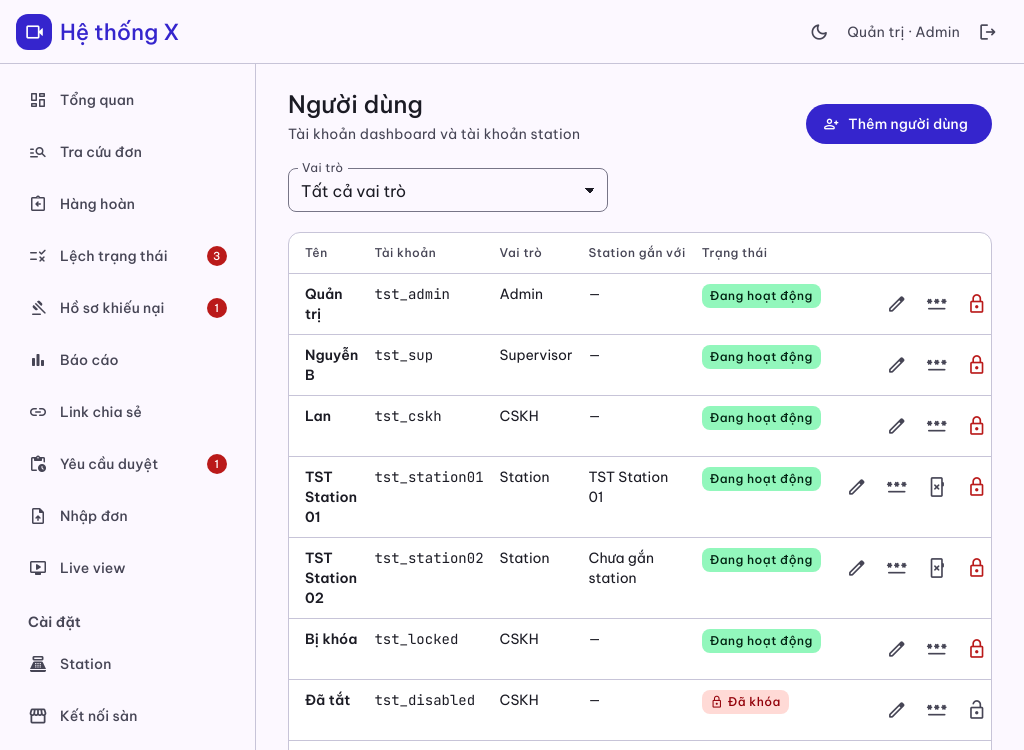
D9: kiểm client — tên đăng nhập sai mẫu, mật khẩu < 8
The image size is (1024, 750).
Click the button "Thêm người dùng" at (899, 124), box [806,104,992,144]
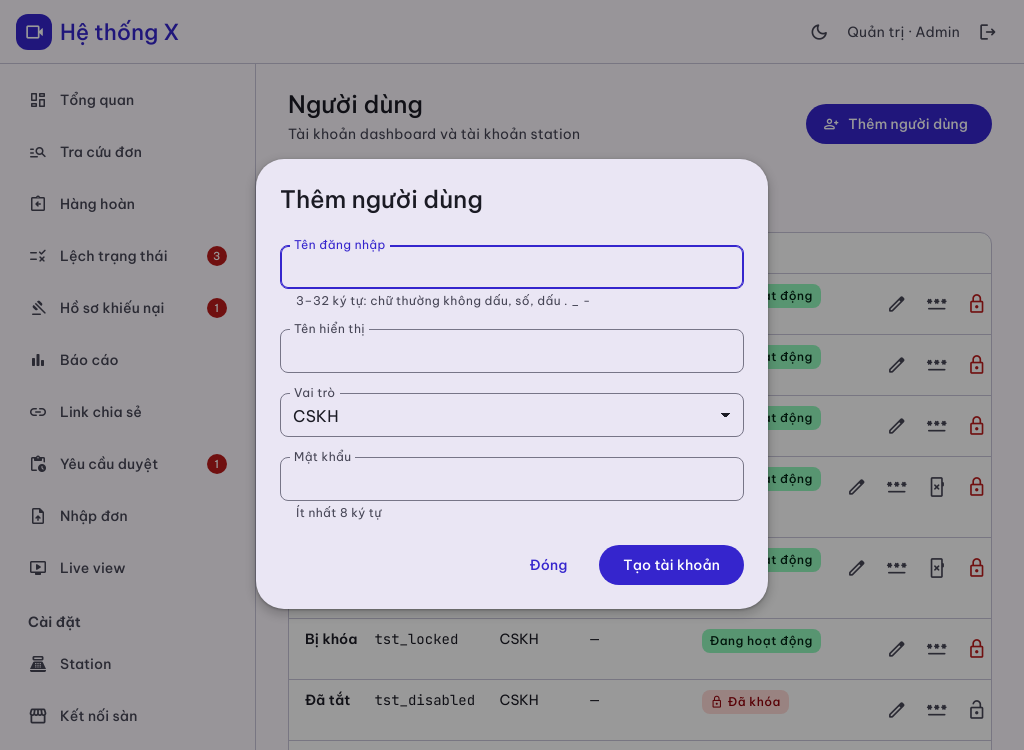
Type "AB" into the field labelled "Tên đăng nhập" at (512, 267), box [280,245,744,289]
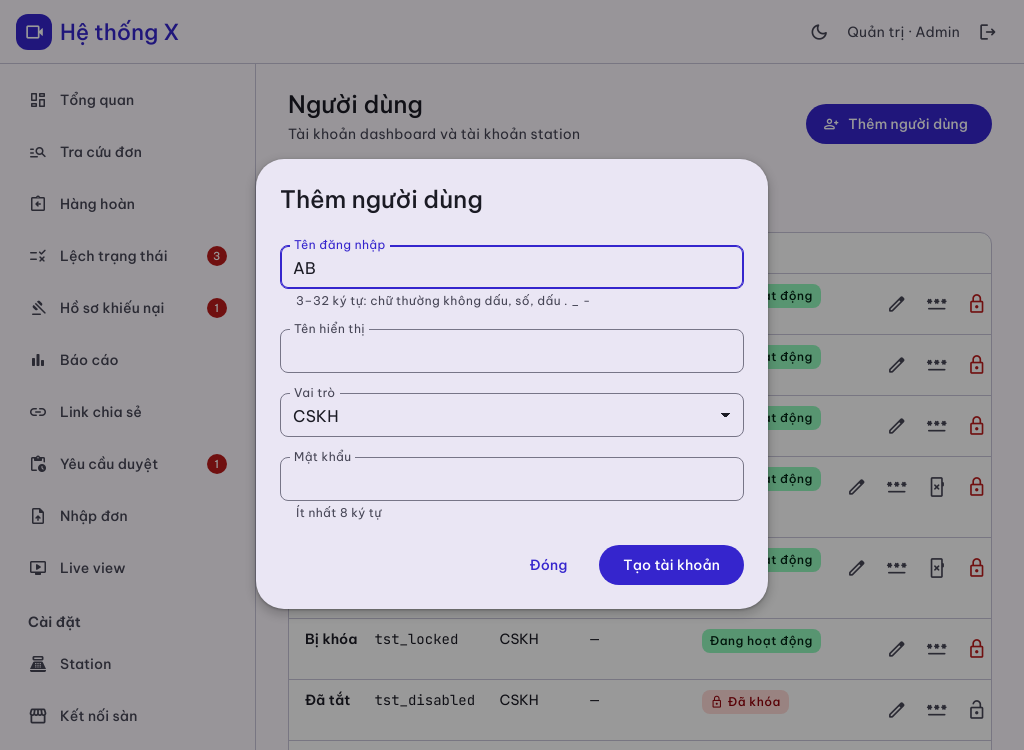
Type "x" into the field labelled "Tên hiển thị" at (512, 351), box [280,329,744,373]
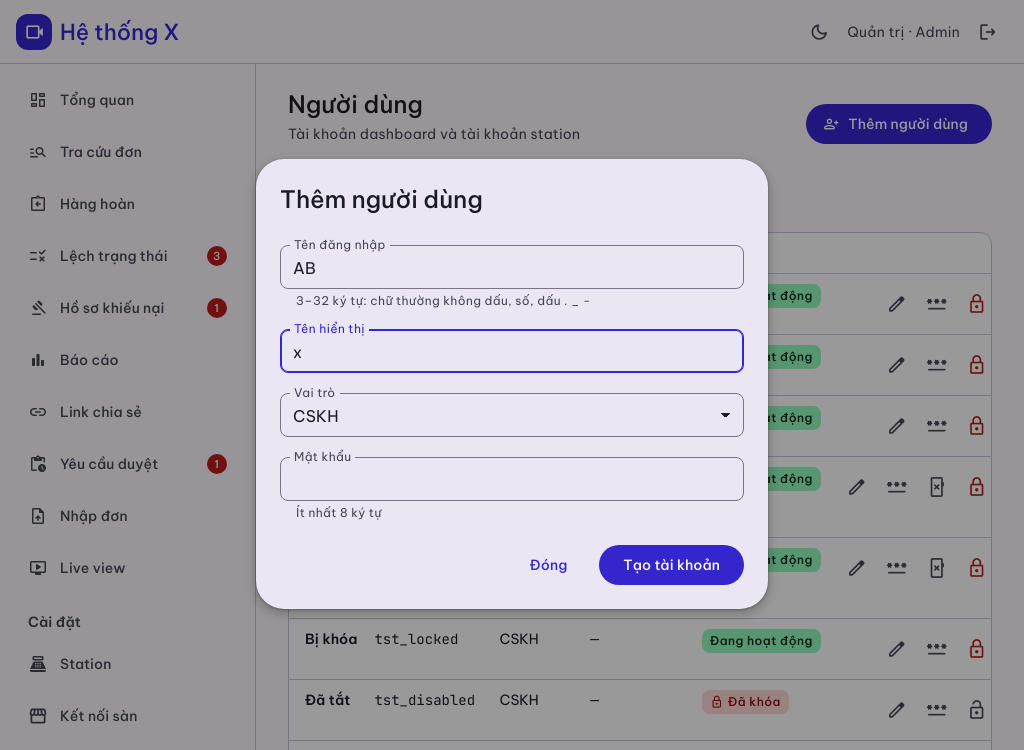
Type "1234567" into the password field labelled "Mật khẩu" at (512, 479), box [280,457,744,501]
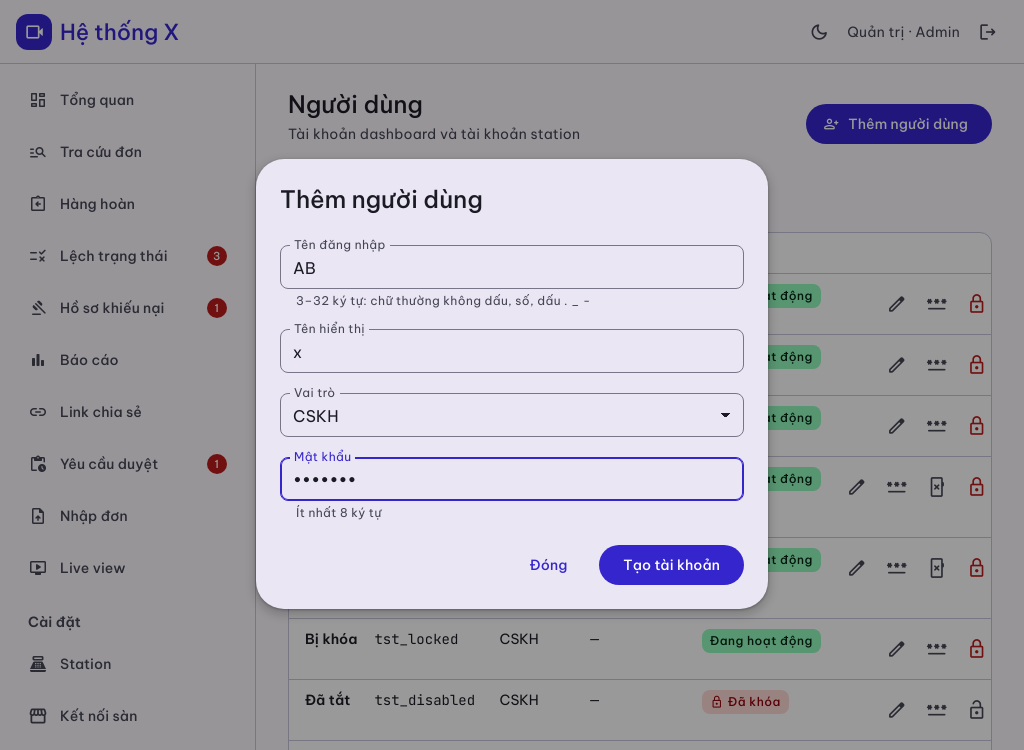
Click the button "Tạo tài khoản" at (672, 565), box [599,545,744,585]
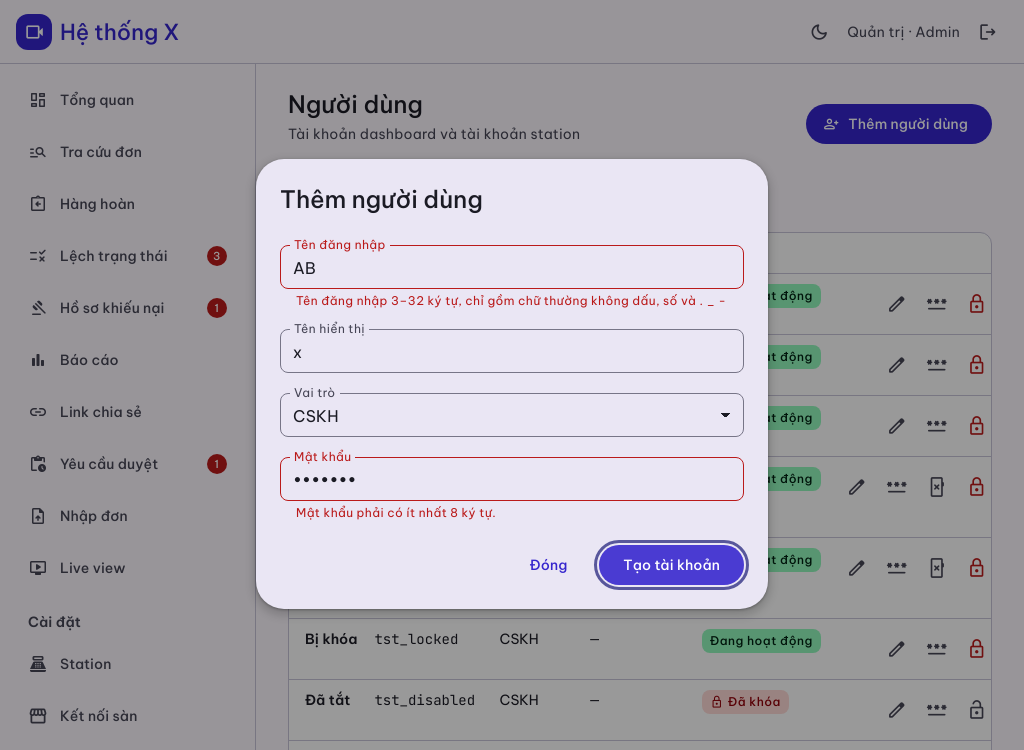
Expected: the text "Tên đăng nhập 3–32 ký tự, chỉ gồm chữ thường không dấu, số và . _ -" is shown, [280,293,744,309]
Expected: the text "Mật khẩu phải có ít nhất 8 ký tự." is shown, [296,505,496,520]
